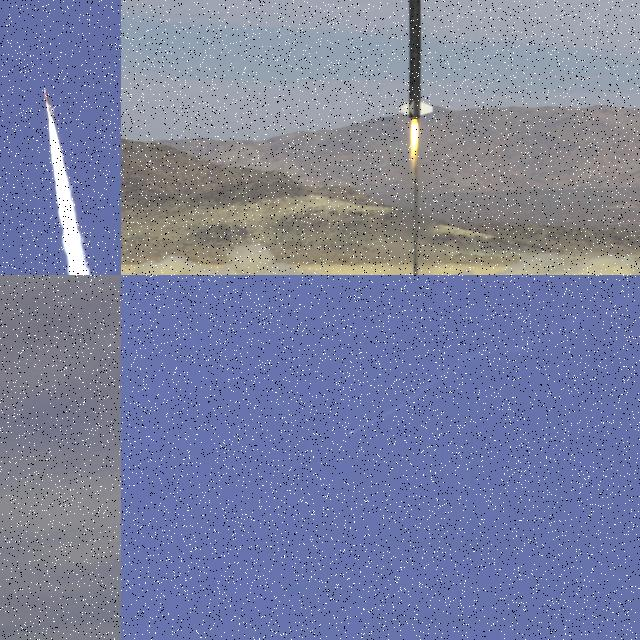Rocket: (399, 0, 433, 121), (44, 88, 56, 118), (348, 432, 354, 435)
